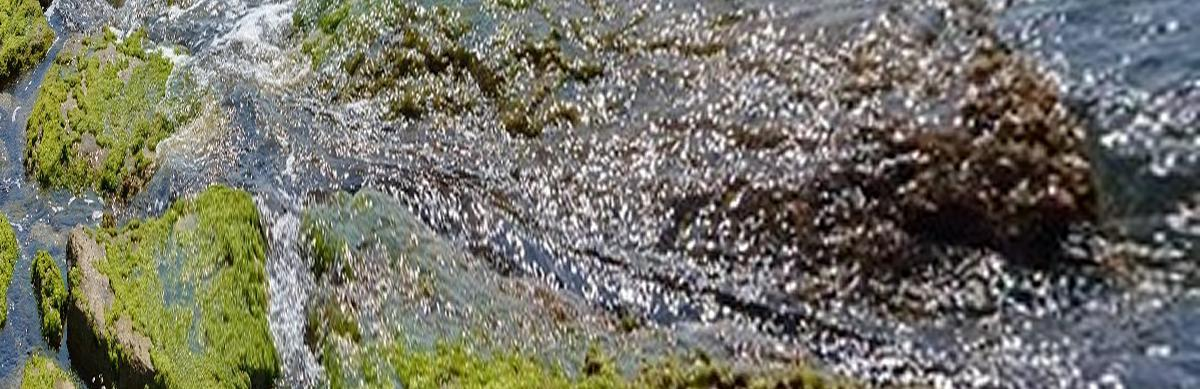Eutrophication Pollution: (0, 0, 611, 389)
